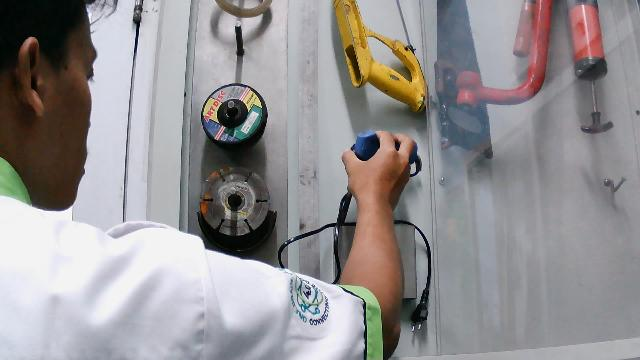solder_electrical: (324, 129, 441, 334)
